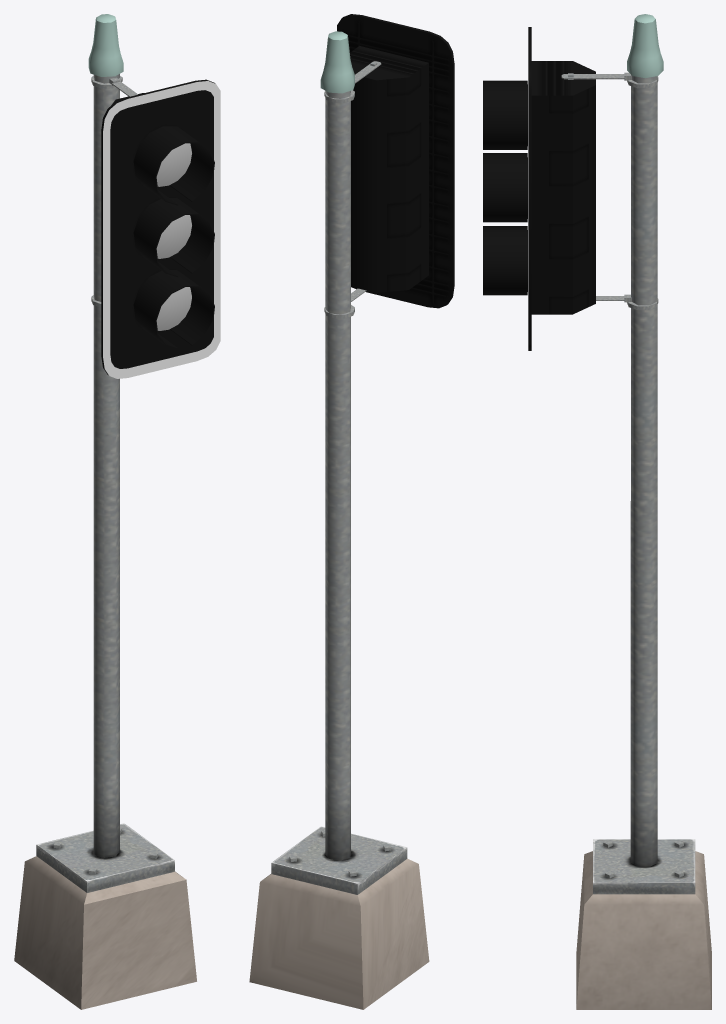
Rendered from TrafficLight01.fbx.
3 views of the same model, side by side, from view 1: azimuth 30°, elevation 25°; view 2: azimuth 150°, elevation 25°; view 3: azimuth 270°, elevation 25° (orthographic). The views are drawn at different scales.
Parts seen in each view (by area): view 1: TrafficLight01; view 2: TrafficLight01; view 3: TrafficLight01.
Boxes of the visible parts, x1,y1,x2,y2 form: TrafficLight01: (14,14,220,1009); TrafficLight01: (249,14,454,1009); TrafficLight01: (483,14,711,1009).
Size of the model in its own units: 0.6328 by 4.89 by 1.05.
